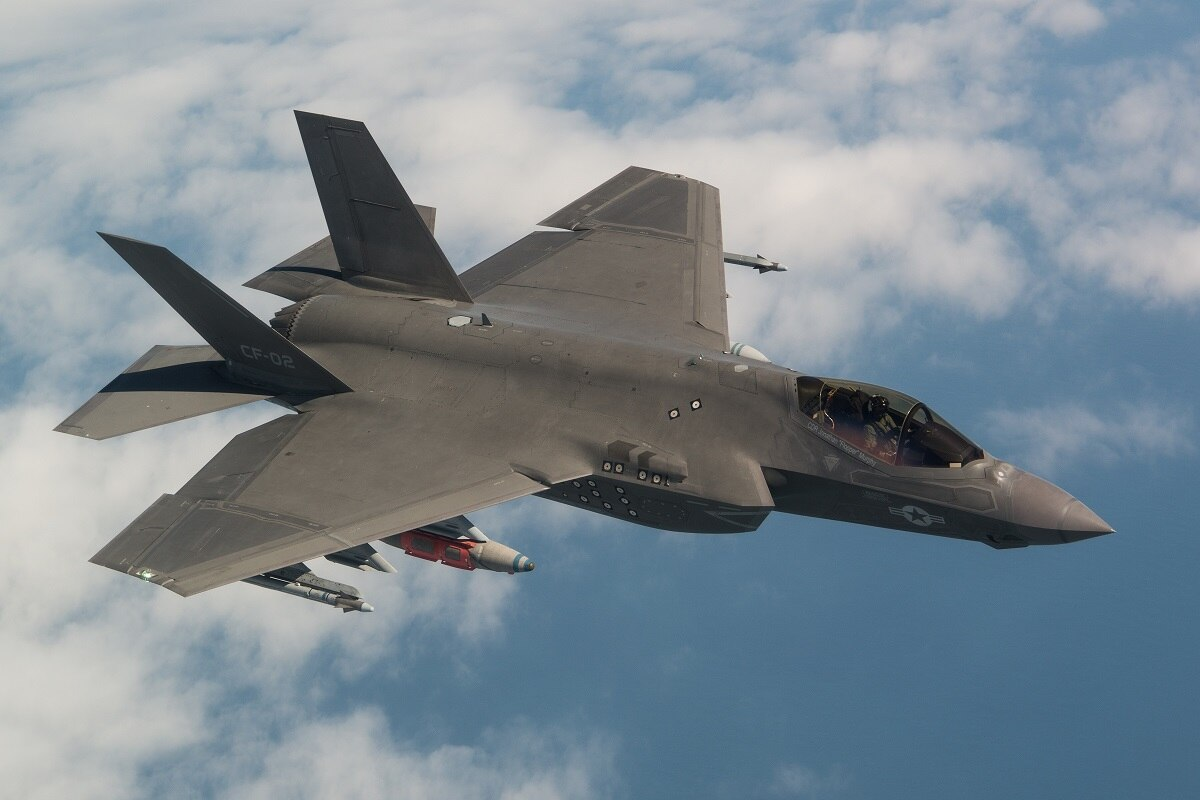F-35 Lightning: (49, 101, 1133, 702)
